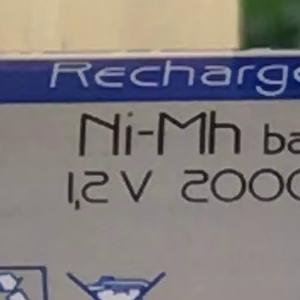NI-MH: (69, 100, 251, 167)
